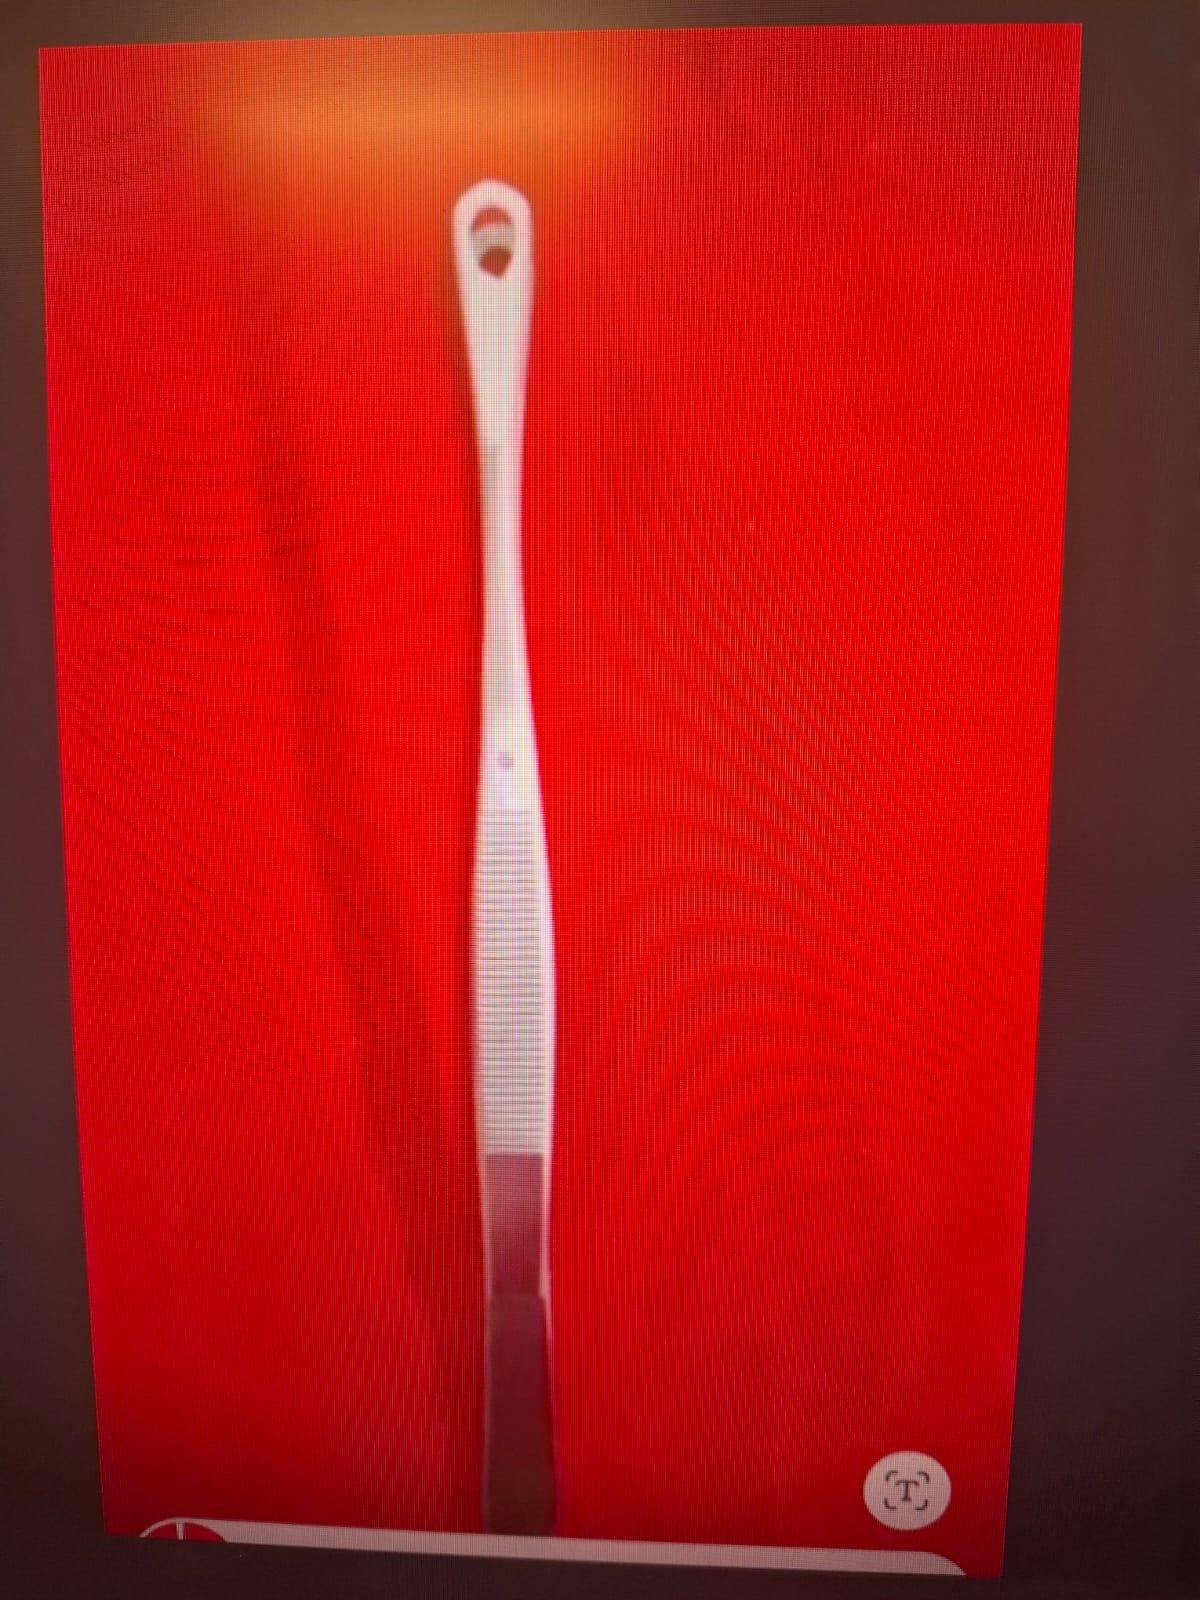Eye Intestinal Forceps: (420, 175, 618, 1555)
